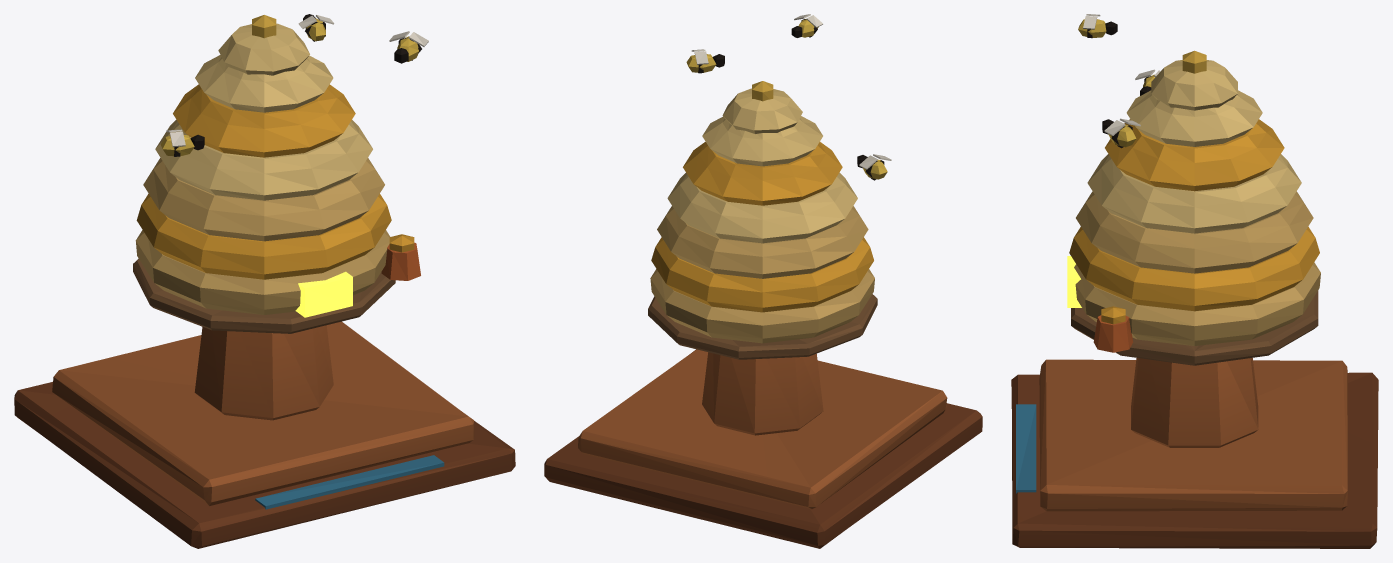
Rendered from great_hum.glb.
3 renders of one model, left to right at view 1: azimuth 30°, elevation 25°; view 2: azimuth 150°, elevation 25°; view 3: azimuth 270°, elevation 25°, orthographic. The views are drawn at different scales.
Parts seen in each view (by area): view 1: great_hum; view 2: great_hum; view 3: great_hum.
Part boxes in pixels (x1,y1,x2,y2): great_hum: (14, 14, 515, 548); great_hum: (544, 14, 982, 548); great_hum: (1011, 14, 1378, 548).
Size of the model in its own units: 0.9064 by 1.25 by 0.9047.
